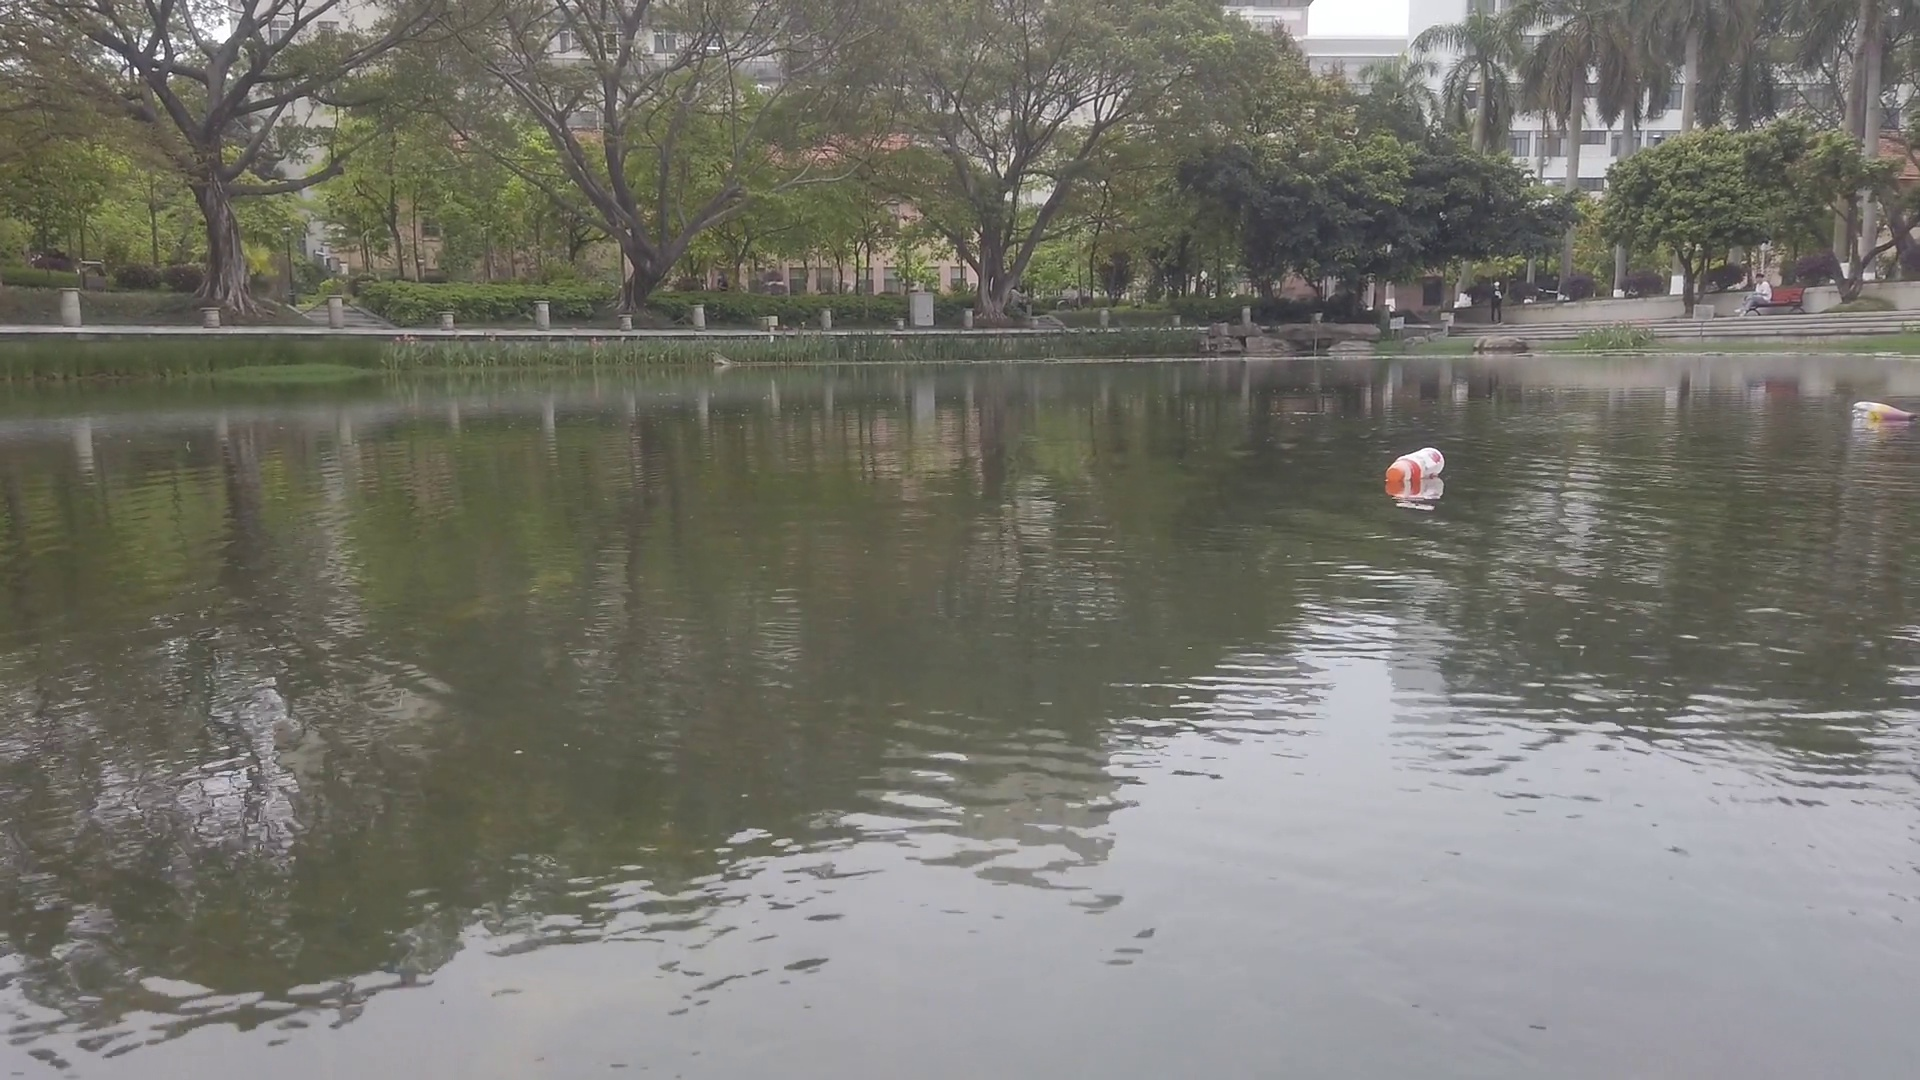bottle: (1385, 444, 1445, 483), (1853, 400, 1913, 429)
